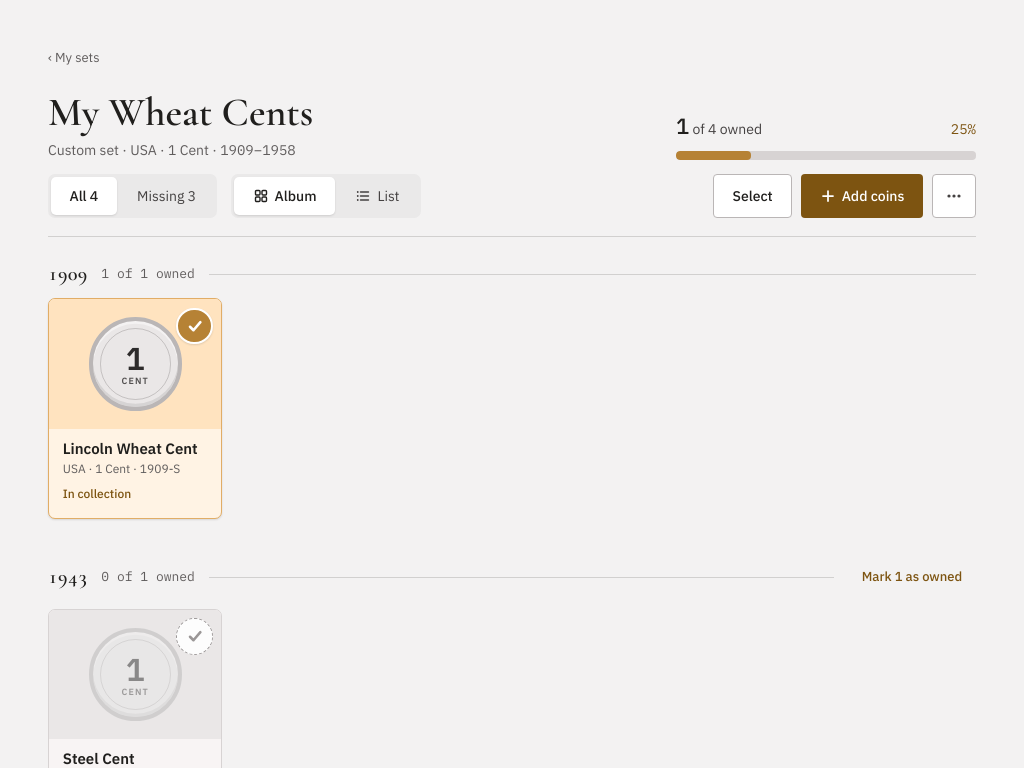
it: SetEditorPage missing-list controls › criterion 7: controls render when something is missing › renders the download button, enabled, with its English label
This screenshot has width=1024, height=768.
Click the button with test id "set-editor-actions-trigger": (954, 196) [932,174,976,218]
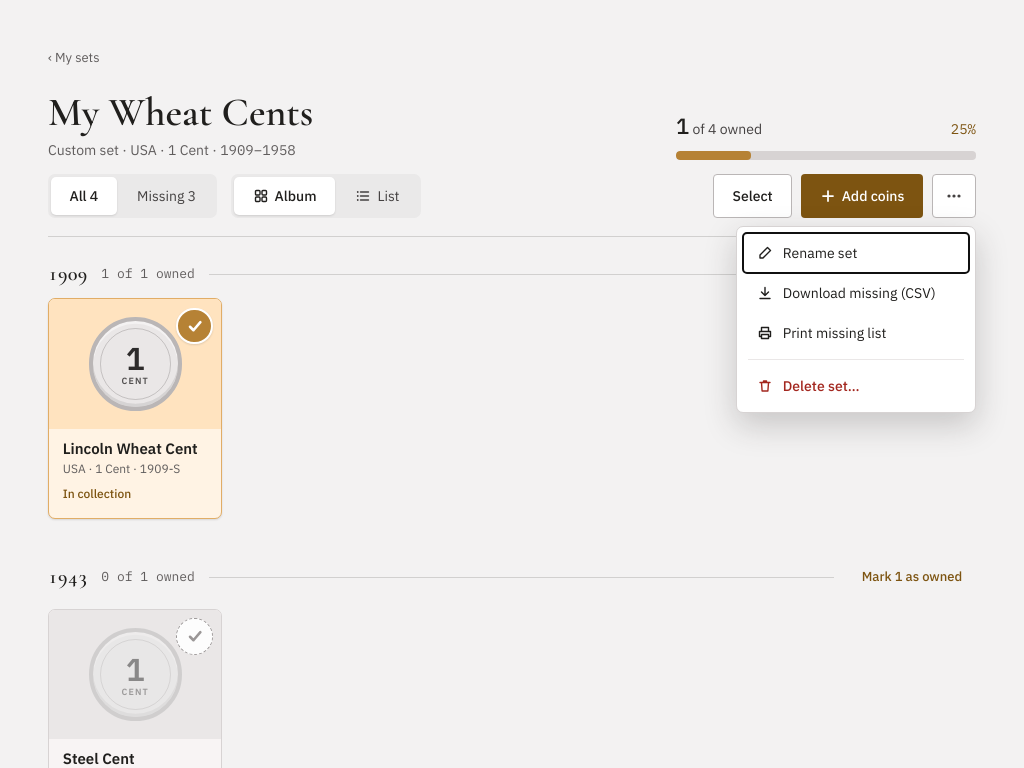
Now the menu item with test id "set-editor-download-missing" reads "Download missing (CSV)", box [743,273,969,313]
Now the menu item with test id "set-editor-download-missing" is enabled, box [743,273,969,313]
